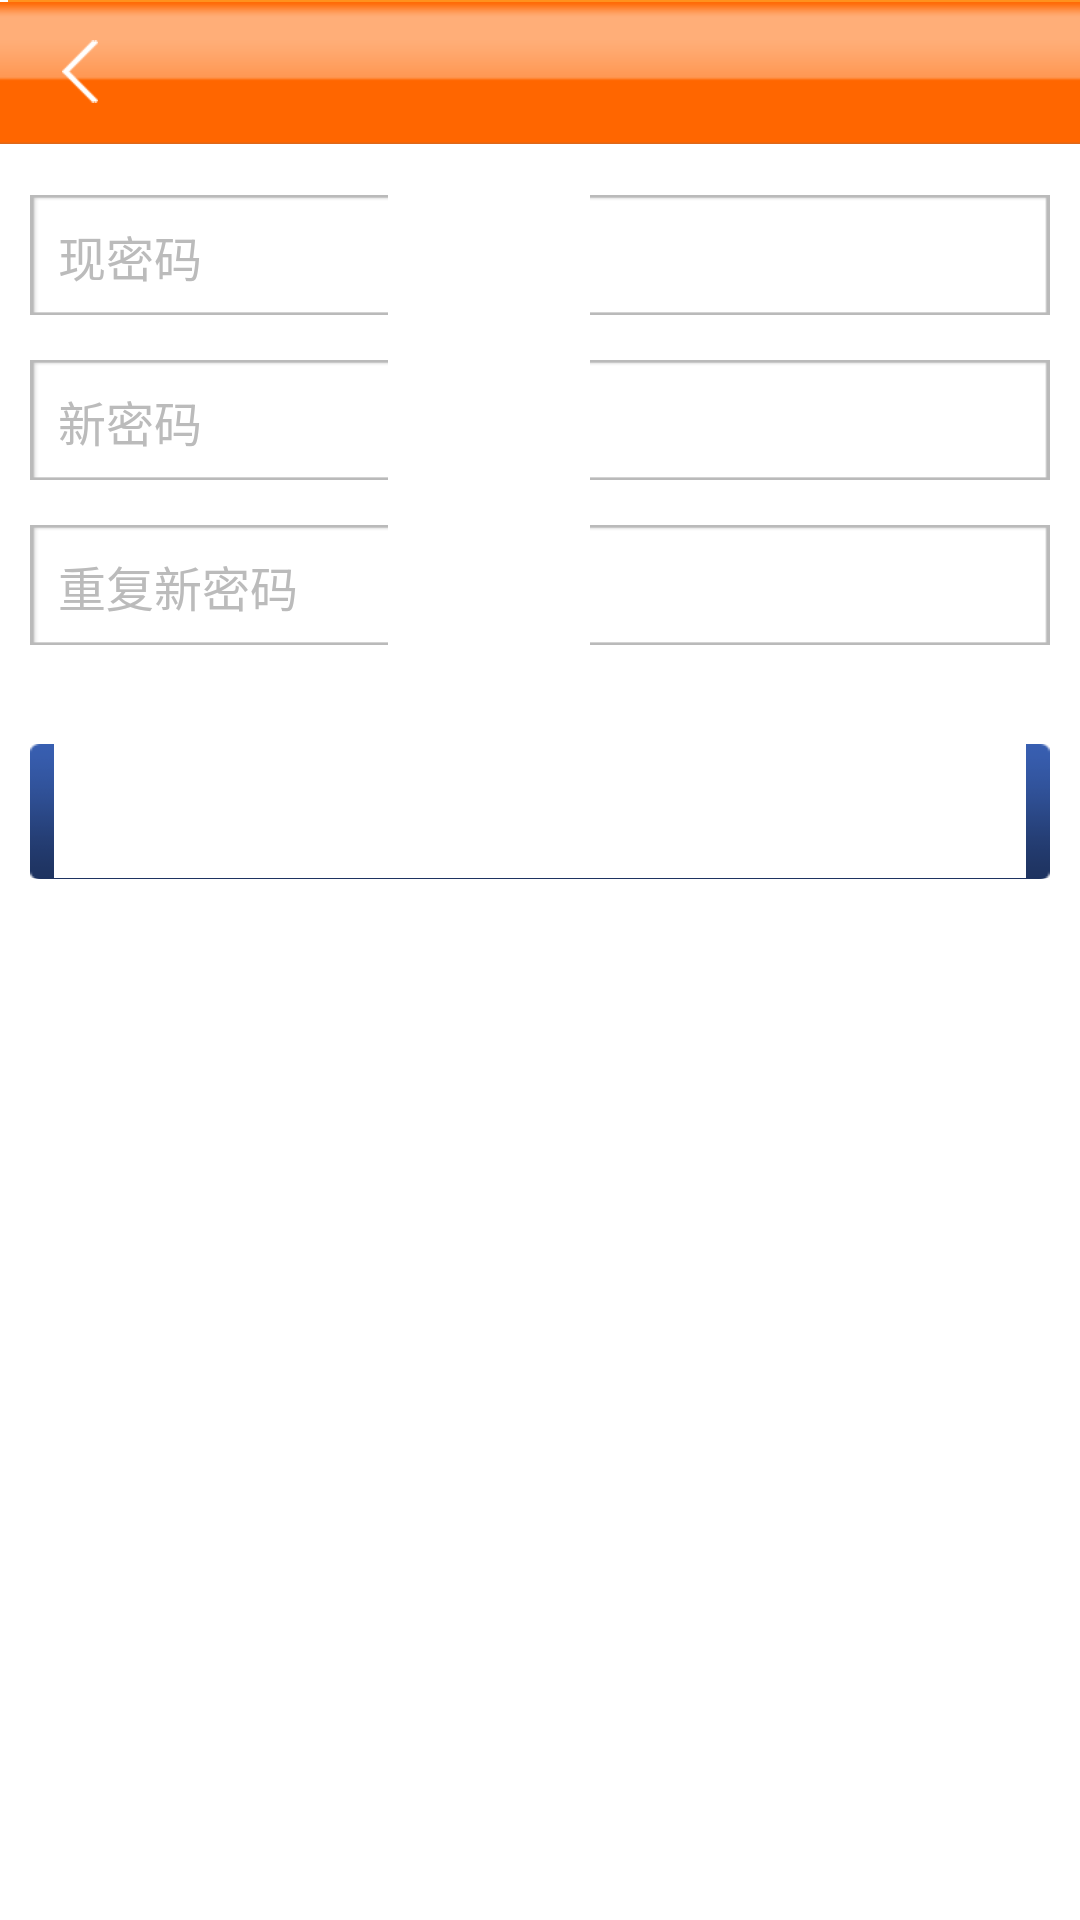

Icons on this 1080px×1920px Android screen, each with the point to tap as [x,y]:
back: [80,71]
